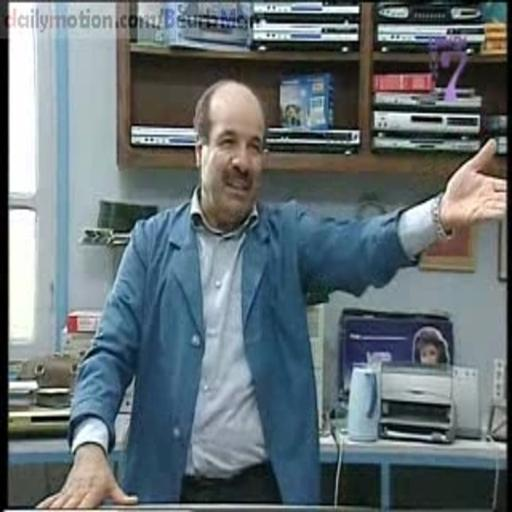beji_matrix: (194, 80, 265, 231)
